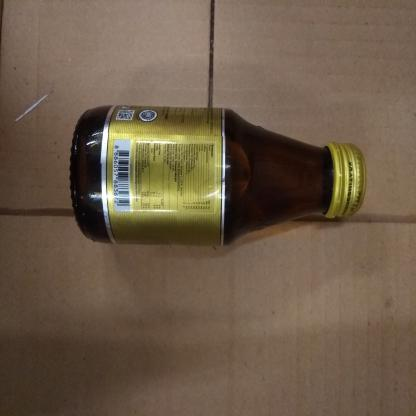bottle: (68, 100, 370, 252)
